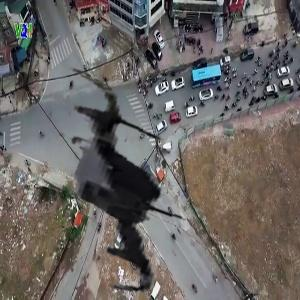drone: (20, 85, 229, 294)
